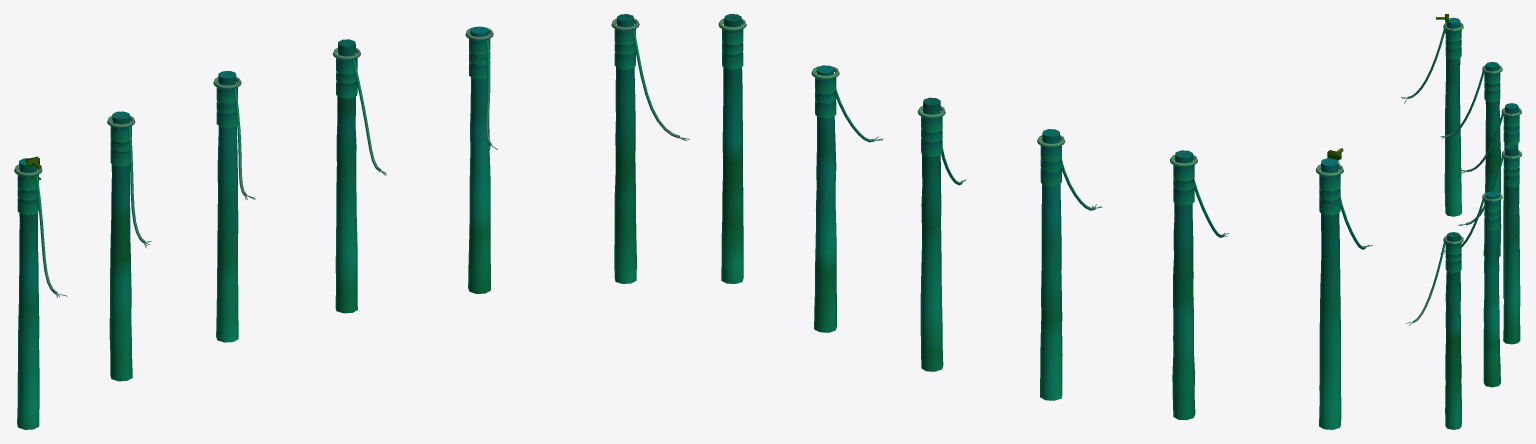
File: oruvel_moorings.glb
The picture shows the model from 3 angles, left to right: view 1: azimuth 30°, elevation 25°; view 2: azimuth 150°, elevation 25°; view 3: azimuth 270°, elevation 25°; orthographic projection. The views are drawn at different scales.
Visible parts, largest first — view 1: oruvel_moorings; view 2: oruvel_moorings; view 3: oruvel_moorings.
Part boxes in pixels (box(x1,y1,x2,y2)): oruvel_moorings: box(14, 14, 689, 429); oruvel_moorings: box(718, 14, 1372, 429); oruvel_moorings: box(1401, 14, 1521, 429).
Size of what is drawn, in the model's own units: 12.93 by 5.18 by 2.87.
